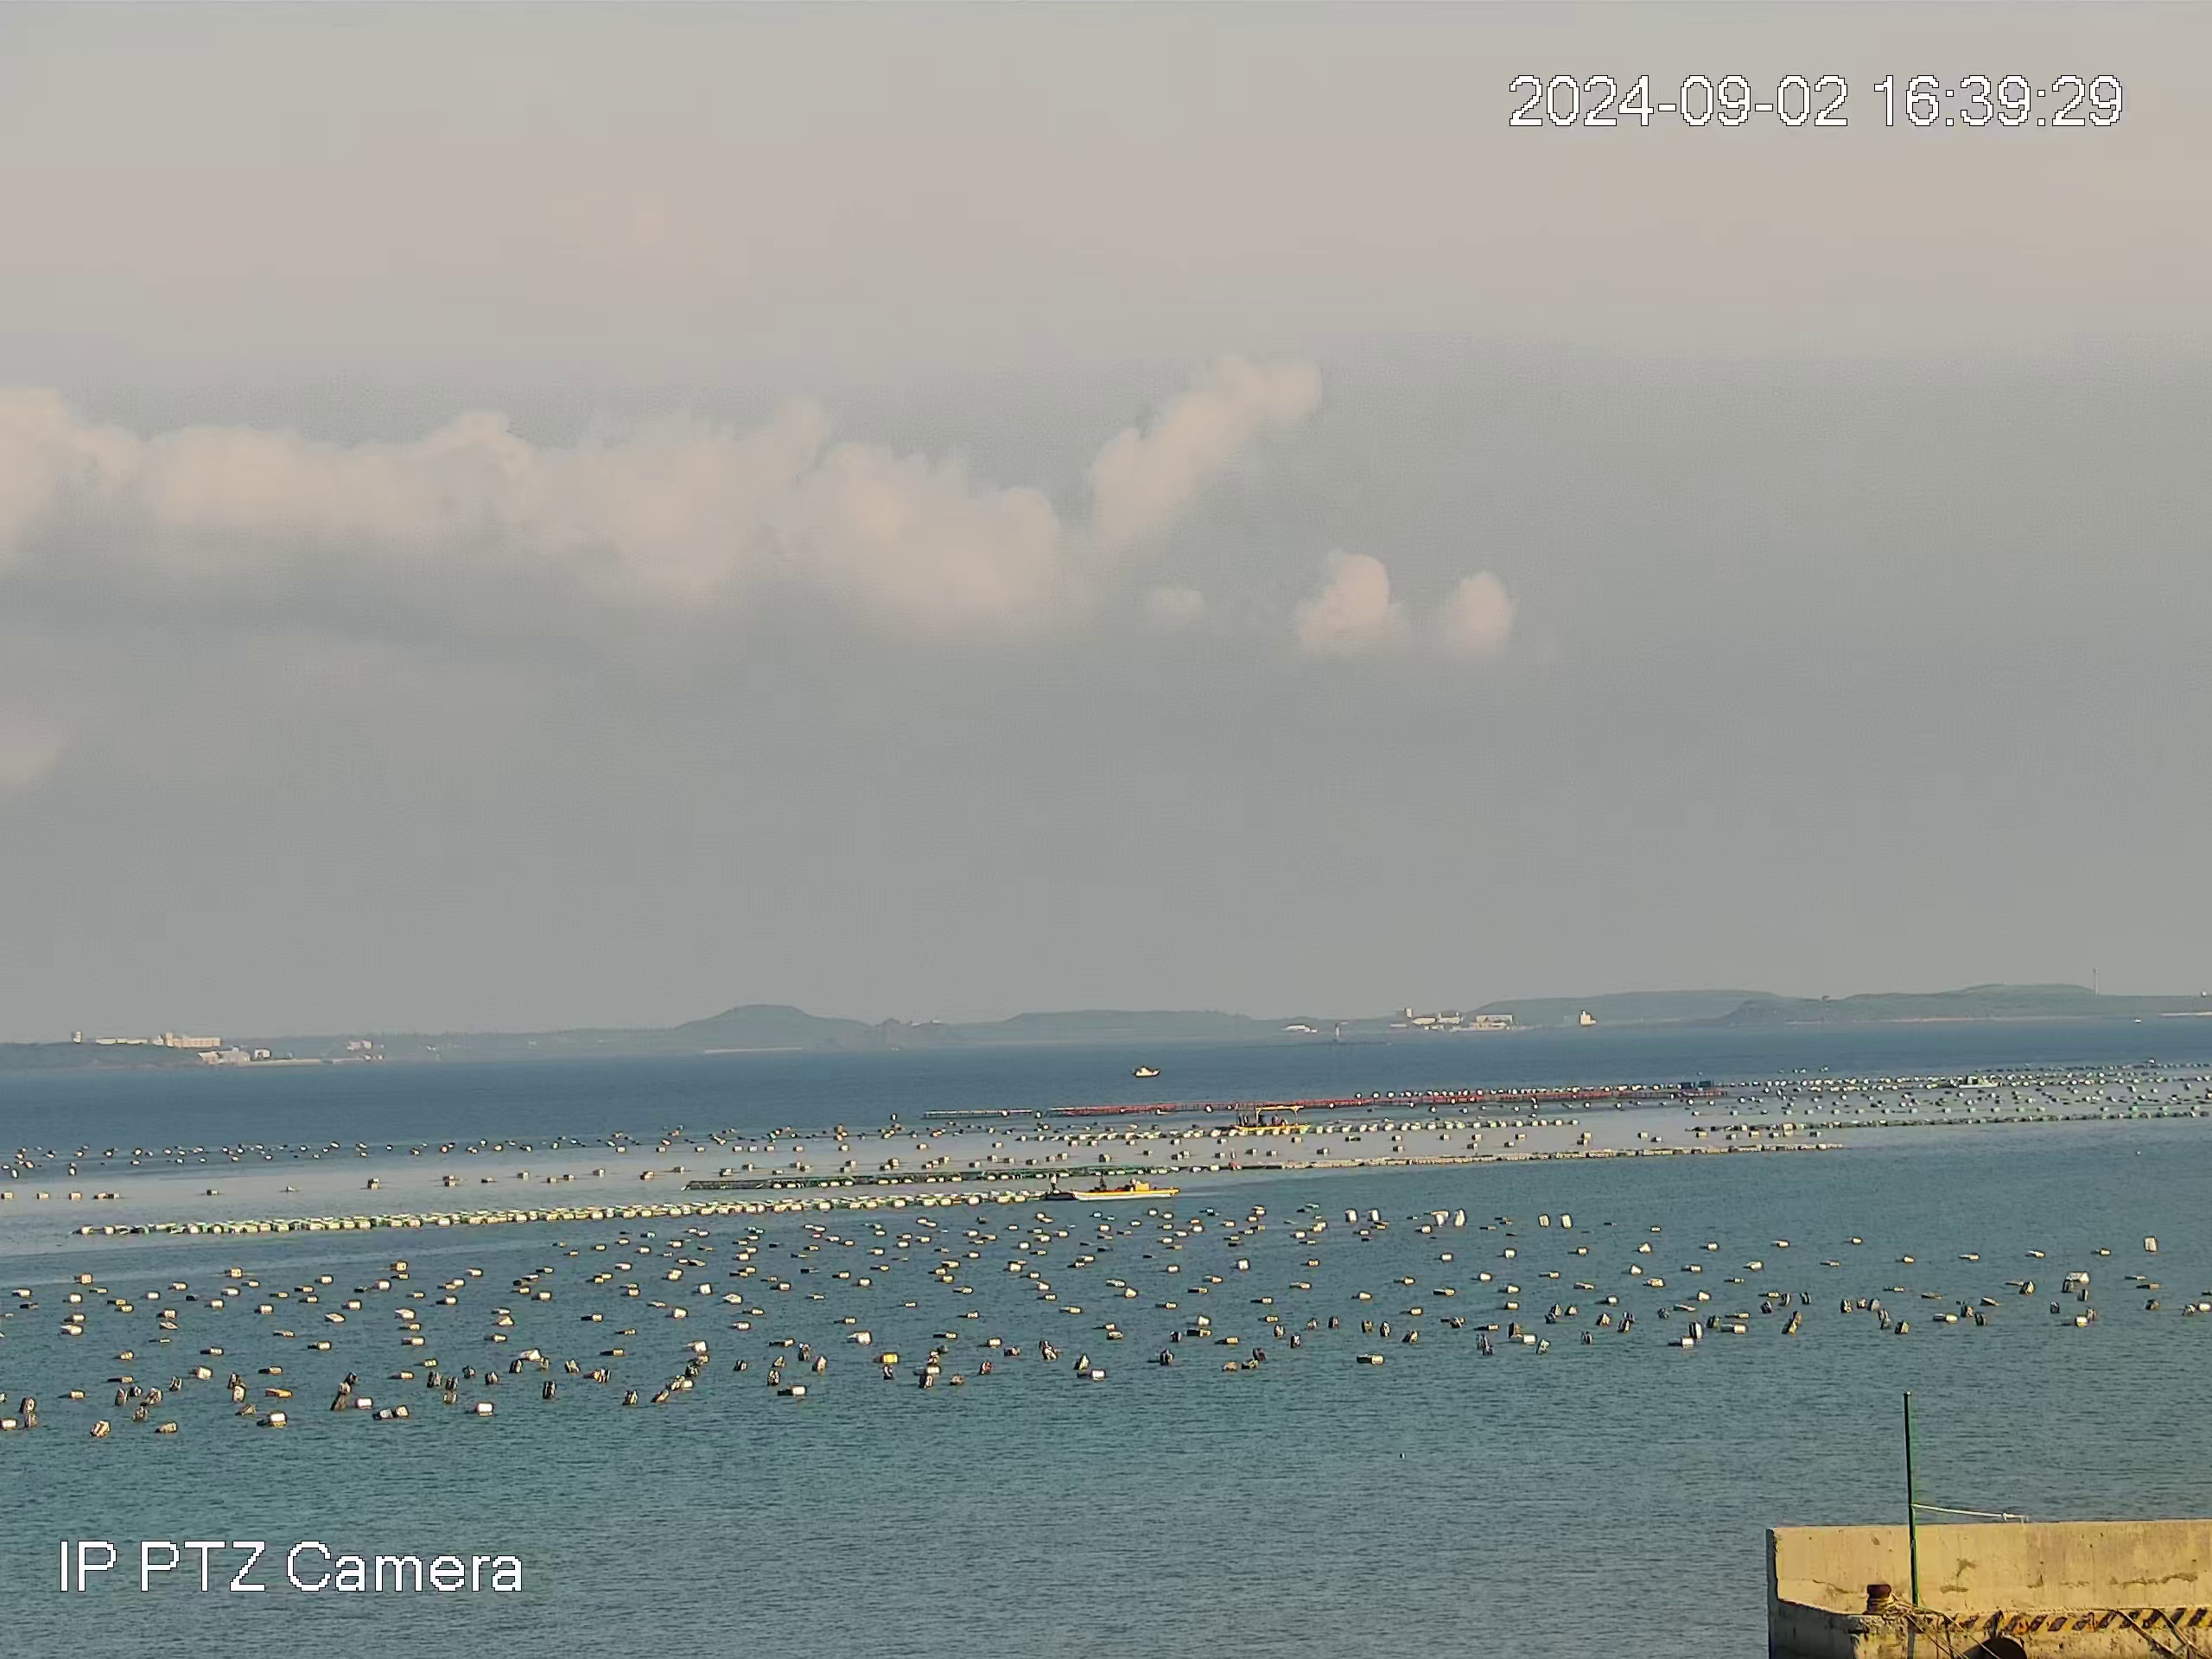boat: (1038, 1171, 1181, 1202), (1230, 1101, 1312, 1131), (1956, 1073, 2000, 1091), (1132, 1065, 1162, 1079)
